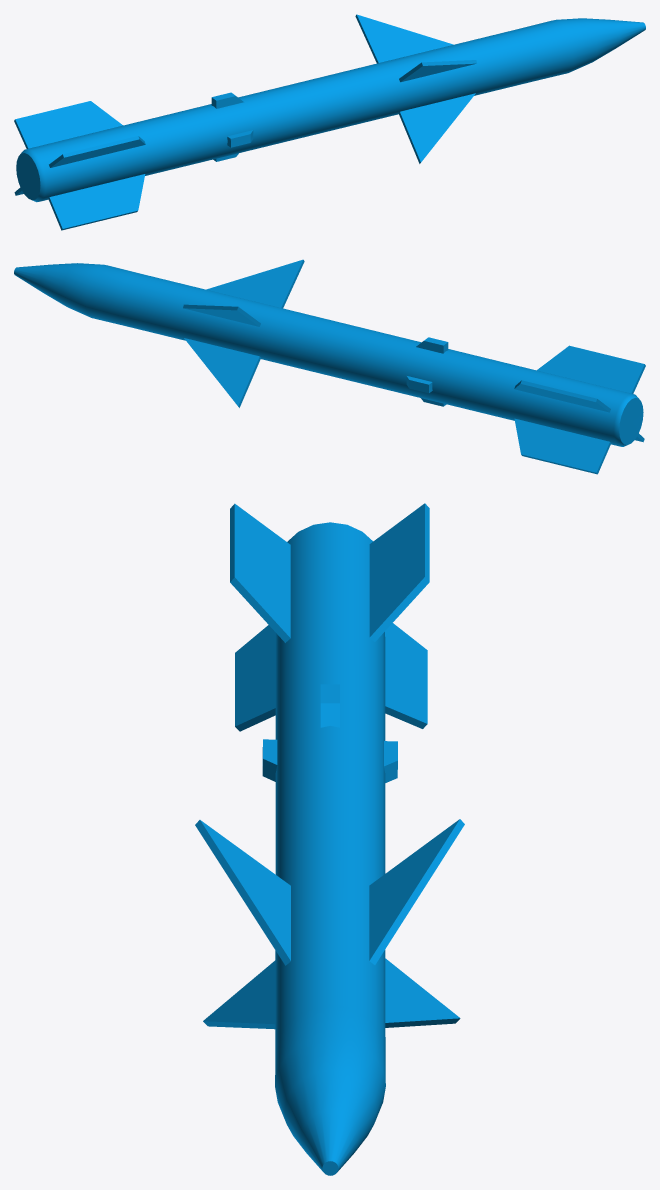
The model's file is Missile_Lod0.fbx.
3 views of the same model, one above another, from view 1: azimuth 30°, elevation 25°; view 2: azimuth 150°, elevation 25°; view 3: azimuth 270°, elevation 25° (orthographic). The views are drawn at different scales.
Visible parts, largest first — view 1: Missile_Lod0; view 2: Missile_Lod0; view 3: Missile_Lod0.
Part boxes in pixels (x1,y1,x2,y2): Missile_Lod0: (14,14,645,230); Missile_Lod0: (14,259,645,474); Missile_Lod0: (195,503,464,1175).
Bounding box in the file's own units: 389 × 62.63 × 73.84.
